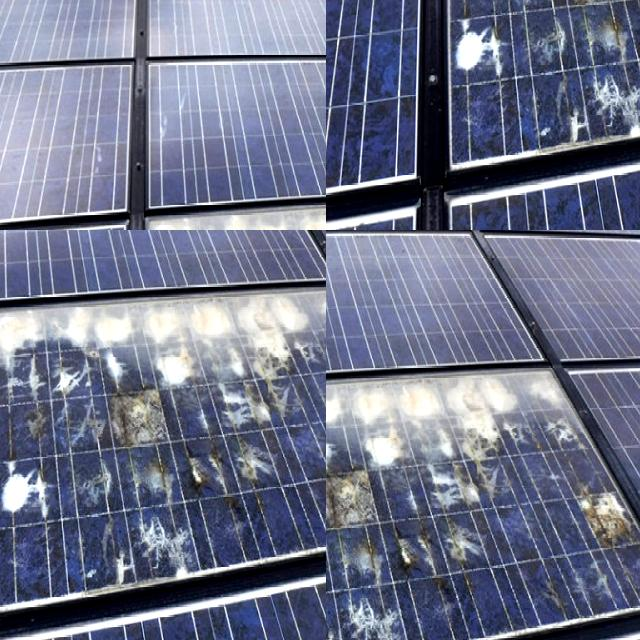crack: (174, 56, 326, 230), (124, 84, 174, 152), (0, 154, 38, 230), (66, 64, 104, 118)
hotspot: (226, 362, 326, 515), (418, 454, 508, 592), (326, 385, 551, 439), (554, 463, 638, 574), (326, 463, 379, 555), (326, 589, 404, 640), (326, 510, 351, 631)
